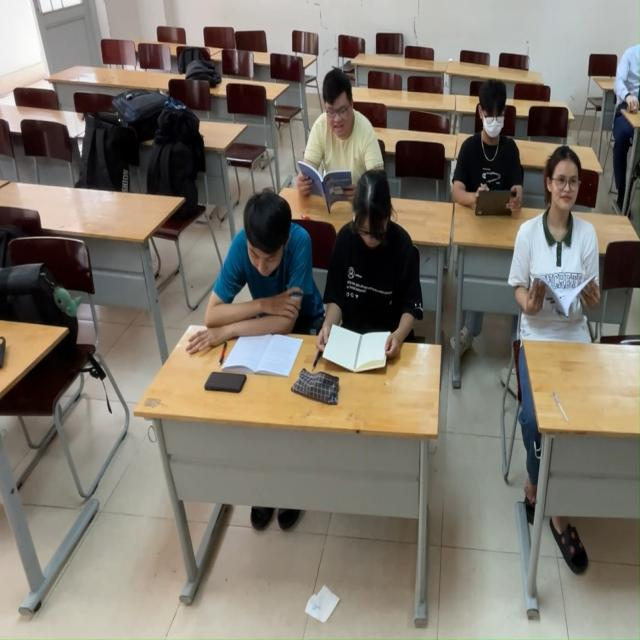read: (516, 129, 614, 385), (189, 201, 316, 387), (321, 170, 421, 390), (452, 71, 524, 220), (315, 67, 381, 206), (303, 199, 307, 200)
